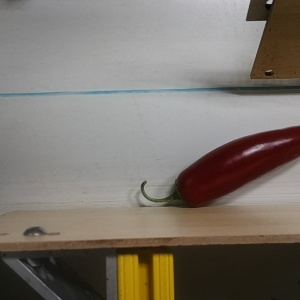Cut Point: (163, 172, 205, 207)
